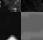lifeC: (0, 0, 21, 12)
